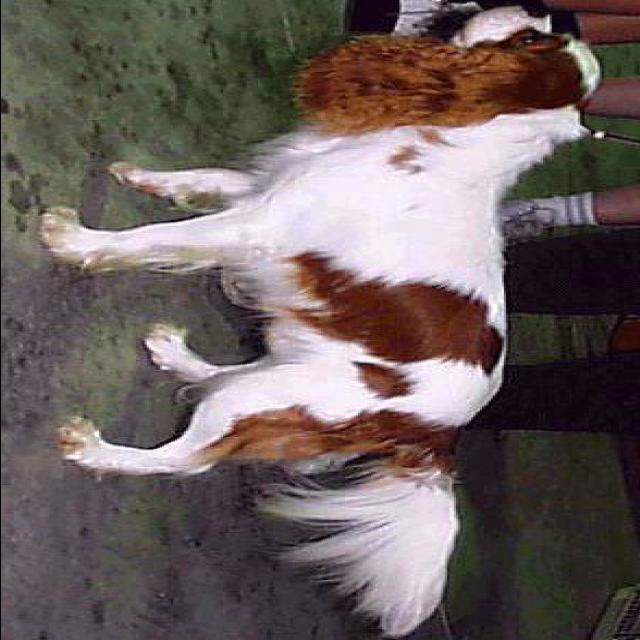blenheim_spaniel: (39, 2, 601, 636)
